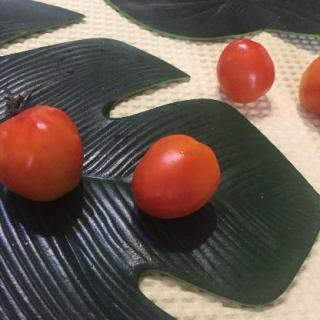Tomat: (121, 130, 225, 227), (1, 105, 83, 211), (210, 34, 287, 115)
